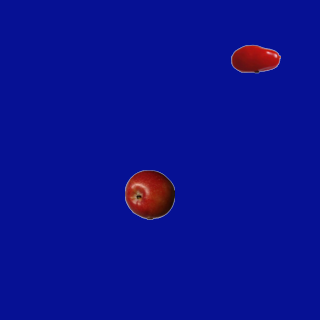Apple Braeburn: (124, 169, 174, 219)
Tomato 2: (230, 33, 280, 83)
